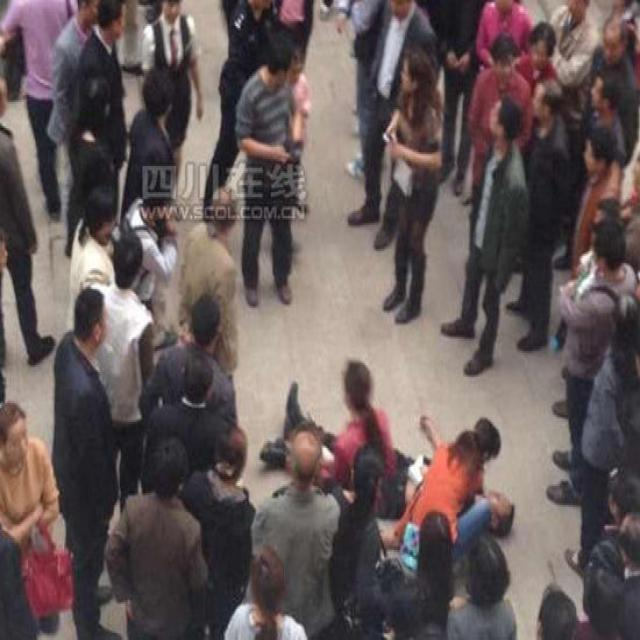10-: (6, 5, 629, 623)
down: (258, 374, 520, 536)
